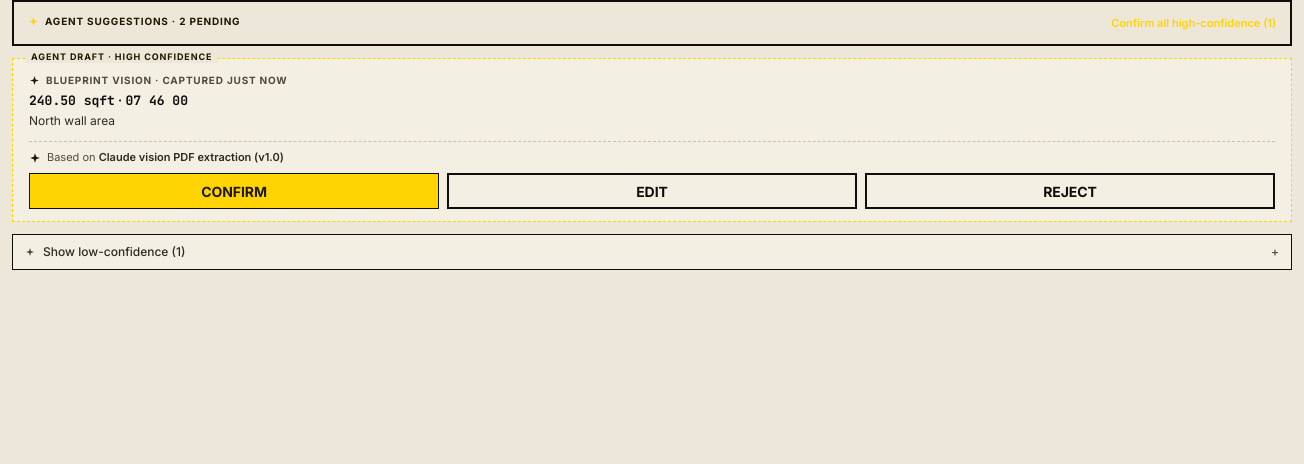
it: AgentSuggestionsPanel › reveals low-confidence rows when the disclosure is opened
Click the text "Show low-confidence (1)" at (105, 252), box [25,243,185,261]
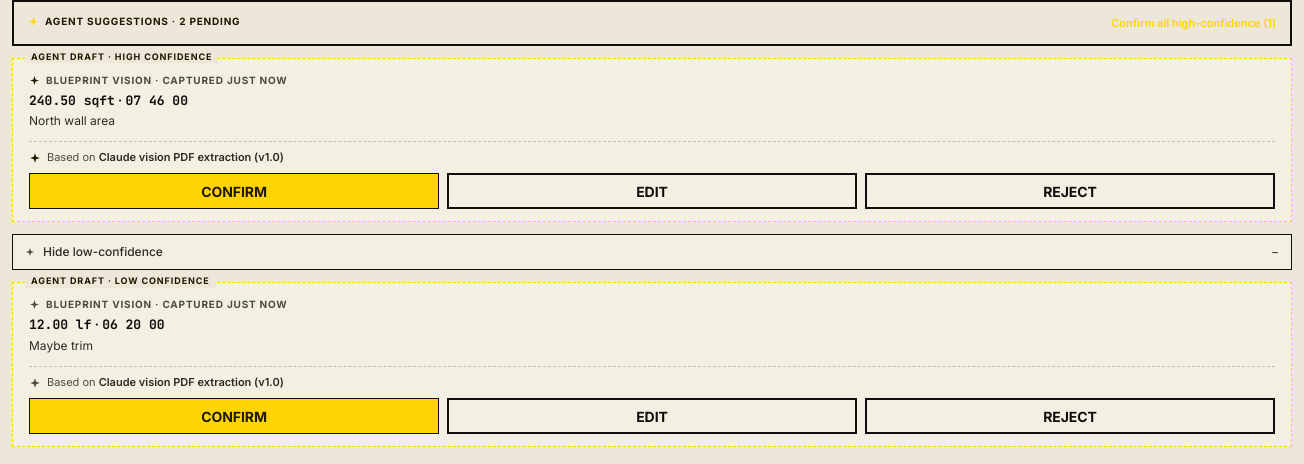
expect the text "Maybe trim" is shown: met, box [29,338,93,353]
